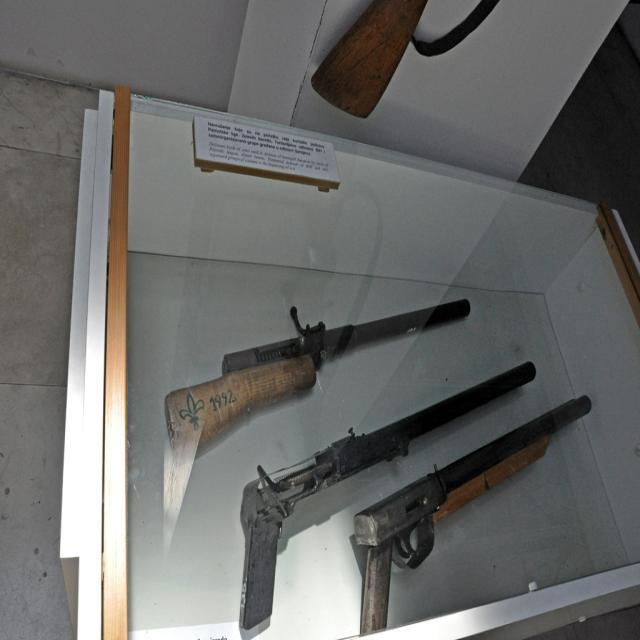weapon: (238, 358, 534, 630), (350, 393, 590, 640), (162, 301, 474, 458), (310, 0, 428, 122)
